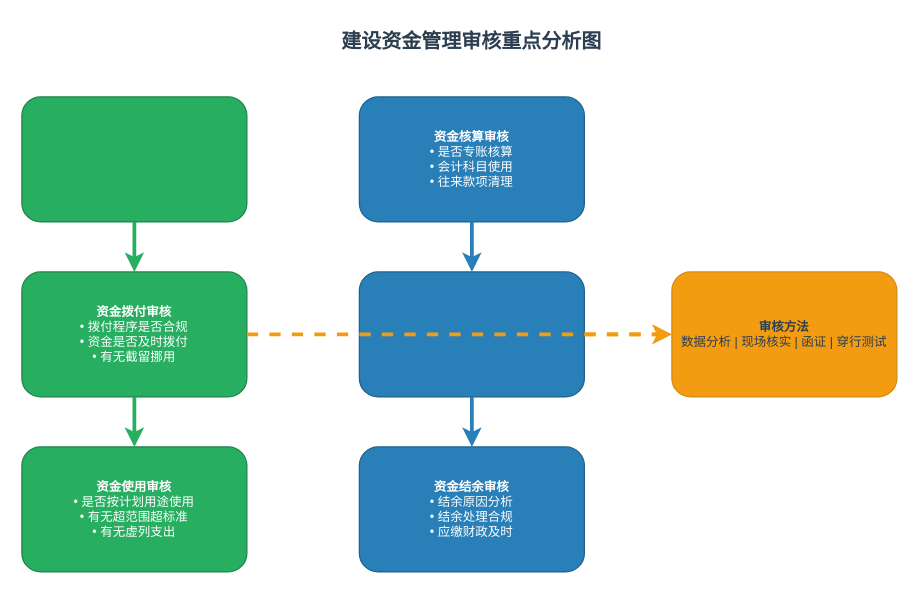
Some shapes in this 919 by 594 pixel diagram are drawn without their labels. Each missing label, with the centre of its shape:
"工程款支付审核 • 支付条件合规性 • 支付金额准确性 • 票据完备性" goes at point 471,334.
"资金筹集审核 • 资金是否按计划到位 • 中央/省级/地方配套 • 债券资金使用合规" goes at point 134,159.
